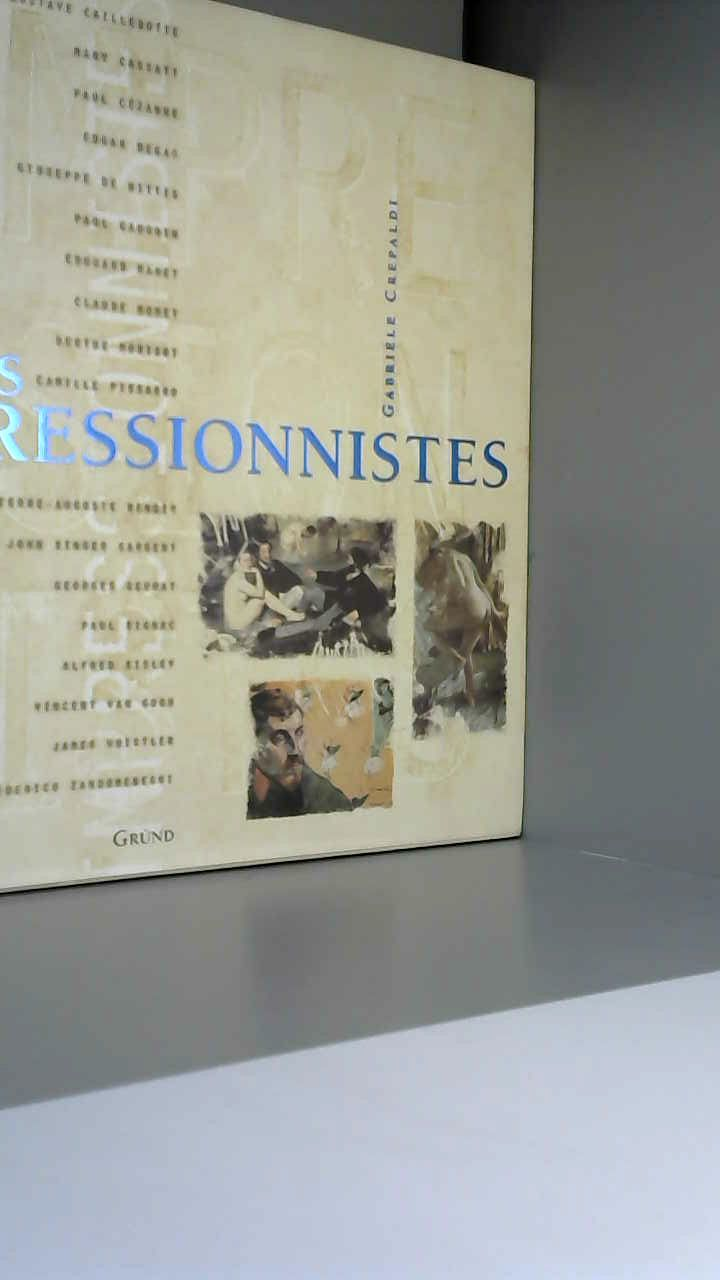book: (0, 0, 593, 911)
